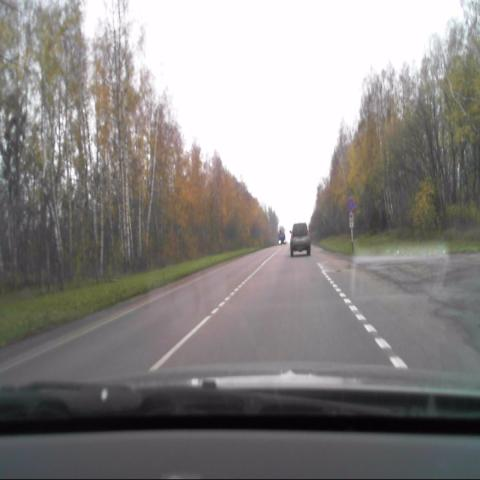3_27: (346, 196, 354, 211)
